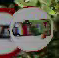Heavy Vehicles: (8, 7, 55, 54)
